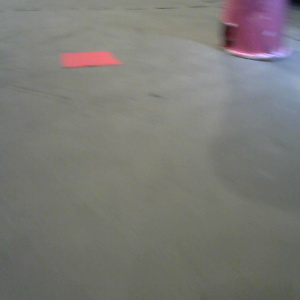right: (218, 1, 293, 60)
